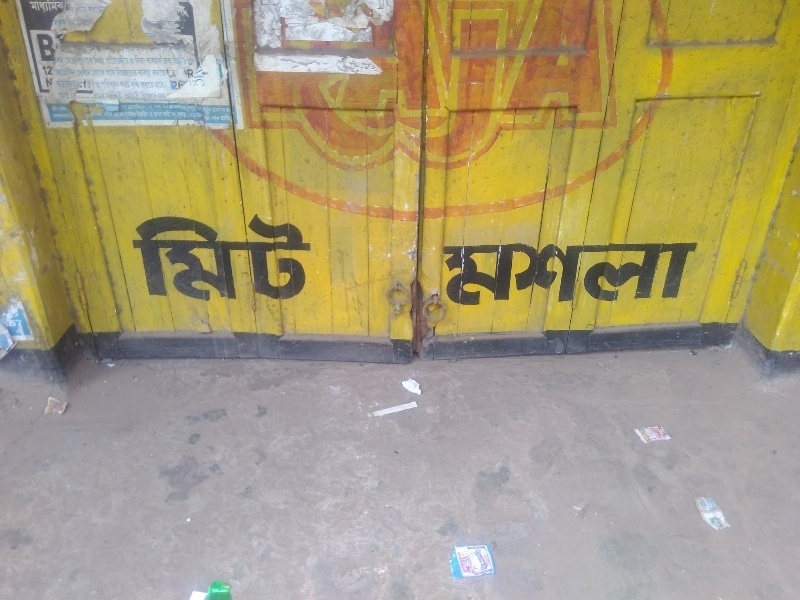text: (257, 1, 272, 179), (273, 1, 288, 179), (289, 1, 304, 179), (305, 1, 320, 179), (321, 1, 336, 179), (337, 1, 352, 179), (353, 1, 368, 179), (369, 1, 384, 179), (385, 1, 400, 179), (401, 1, 416, 179), (417, 1, 432, 179), (433, 1, 448, 179), (449, 1, 464, 179), (465, 1, 480, 179), (481, 1, 496, 179), (497, 1, 512, 179), (513, 1, 528, 179), (529, 1, 544, 179), (545, 1, 560, 179), (561, 1, 576, 179), (577, 1, 592, 179), (593, 1, 608, 179), (609, 1, 624, 179), (625, 1, 640, 179), (246, 1, 256, 179), (129, 212, 144, 301), (145, 212, 160, 301), (161, 212, 176, 301), (177, 212, 192, 301), (193, 212, 208, 301), (209, 212, 224, 301), (225, 212, 240, 301), (241, 212, 256, 301), (257, 212, 272, 301), (273, 212, 288, 301), (289, 212, 304, 301), (305, 212, 318, 301), (49, 56, 64, 130), (65, 56, 80, 130), (81, 56, 96, 130), (97, 56, 112, 130), (113, 56, 128, 130), (129, 56, 144, 130), (145, 56, 160, 130), (161, 56, 176, 130), (177, 56, 192, 130), (193, 56, 208, 130), (209, 56, 224, 130), (225, 56, 240, 130), (449, 239, 464, 307), (465, 239, 480, 307), (481, 239, 496, 307), (497, 239, 512, 307), (513, 239, 528, 307), (529, 239, 544, 307), (545, 239, 560, 307), (561, 239, 576, 307), (577, 239, 592, 307), (593, 239, 608, 307), (609, 239, 624, 307), (625, 239, 640, 307), (641, 239, 656, 307), (657, 239, 672, 307), (673, 239, 688, 307), (36, 56, 48, 130), (65, 1, 80, 60), (81, 1, 96, 60), (97, 1, 112, 60), (113, 1, 128, 60), (129, 1, 144, 60), (145, 1, 160, 60), (161, 1, 176, 60), (177, 1, 192, 60), (193, 1, 208, 60), (689, 239, 701, 307), (120, 212, 128, 301), (641, 1, 645, 179), (209, 1, 219, 60), (36, 33, 48, 62), (443, 239, 448, 307), (49, 33, 57, 62), (49, 1, 65, 14), (33, 1, 48, 14), (28, 1, 32, 14)
